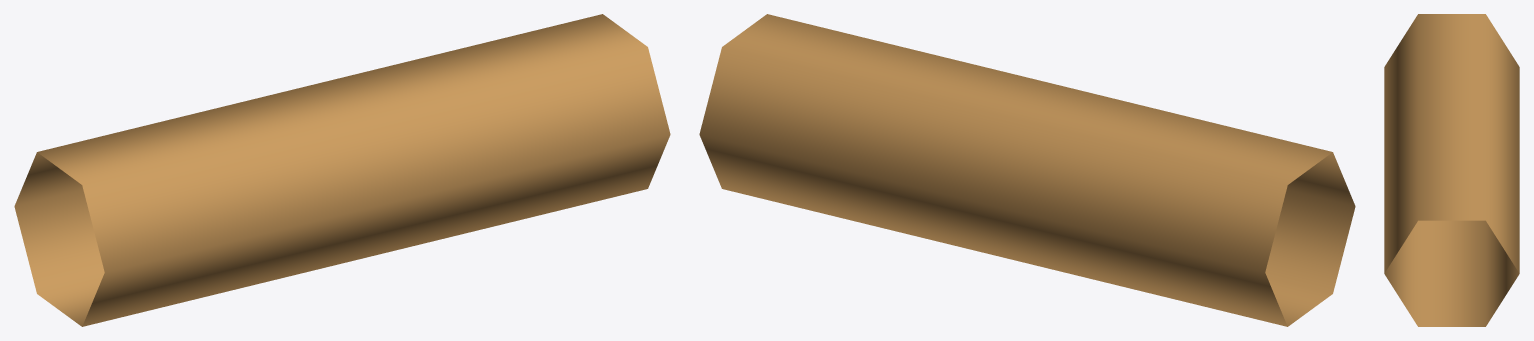
Rendered from SM_Bridge_Rope_A.fbx.
3 renders of one model, left to right at view 1: azimuth 30°, elevation 25°; view 2: azimuth 150°, elevation 25°; view 3: azimuth 270°, elevation 25°, orthographic. The views are drawn at different scales.
Visible parts, largest first — view 1: SM_Rope_A.001; view 2: SM_Rope_A.001; view 3: SM_Rope_A.001.
Boxes of the visible parts, bbox=[...] form: SM_Rope_A.001: bbox=[14, 14, 670, 326]; SM_Rope_A.001: bbox=[699, 14, 1355, 326]; SM_Rope_A.001: bbox=[1384, 14, 1519, 326].
Size of the model in its own units: 123 by 33.89 by 29.35.
